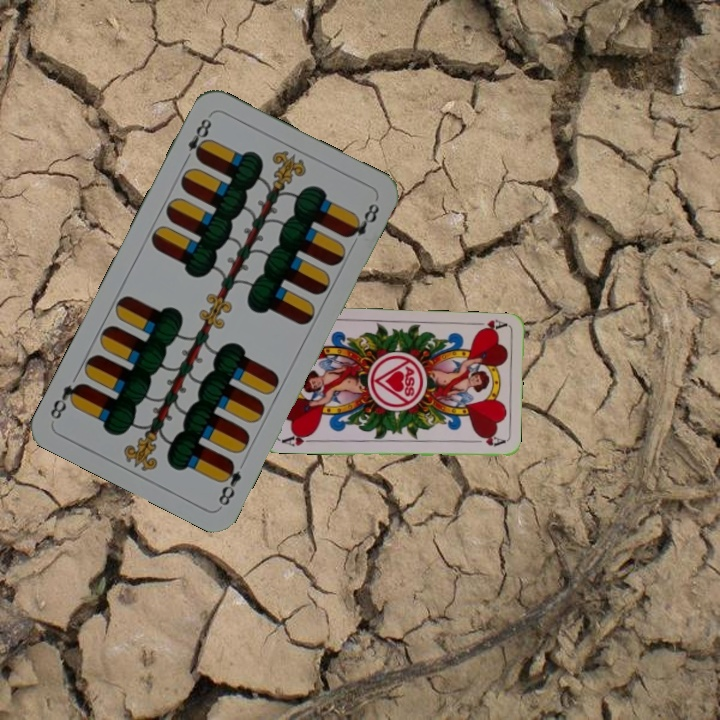E8: (180, 114, 215, 166), (214, 456, 244, 509)
HA: (275, 429, 316, 449), (468, 315, 509, 335)
